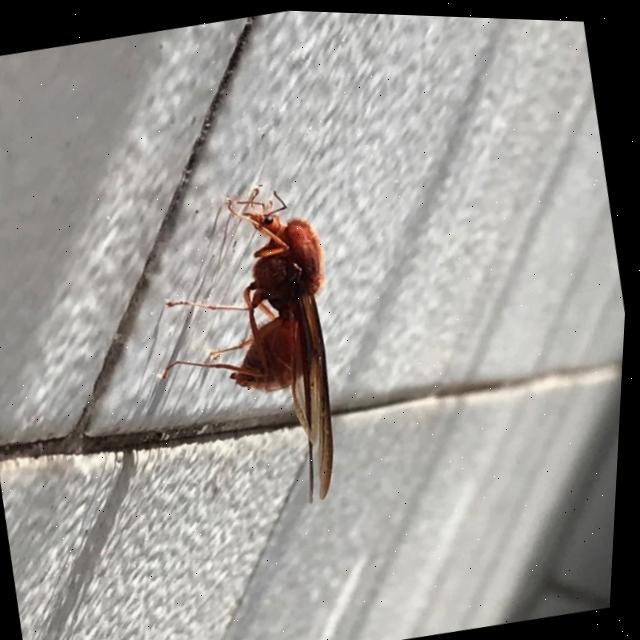Alive-Male-Alate: (120, 167, 376, 529)
